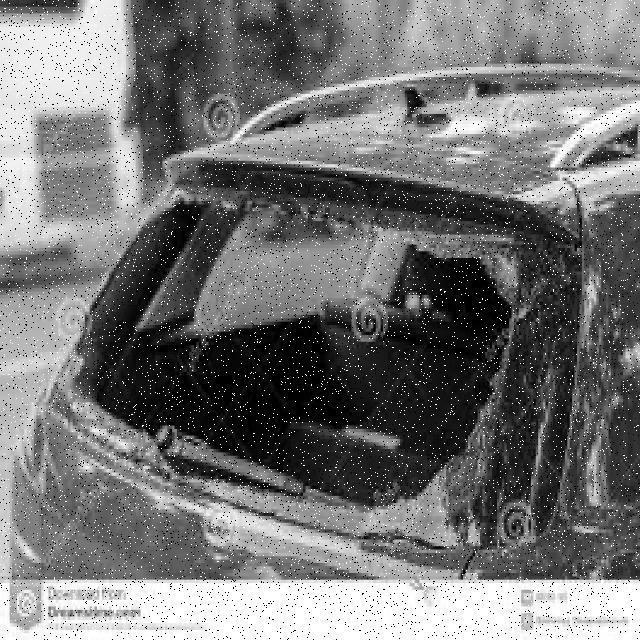Rear-windscreen-Damage: (66, 185, 558, 557)
